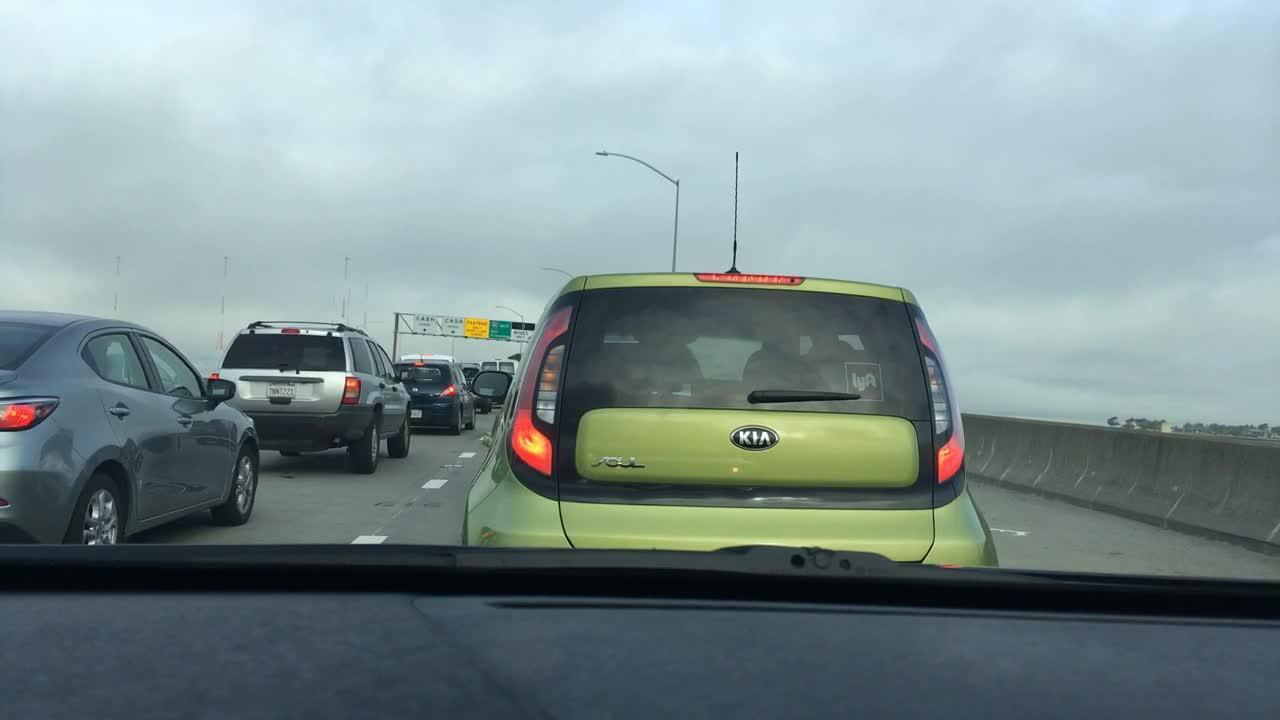kia: (728, 421, 781, 457)
